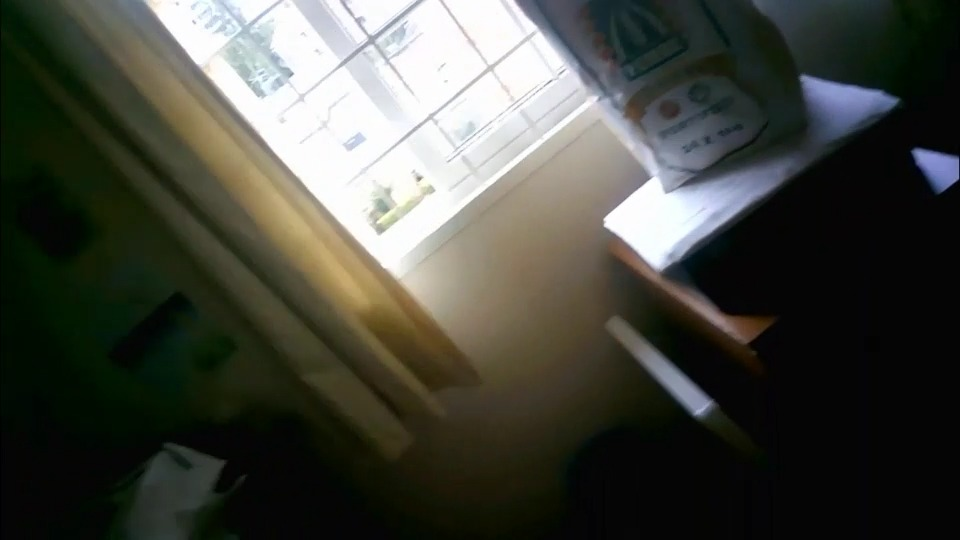maize_flour_green_label: (518, 0, 804, 181)
